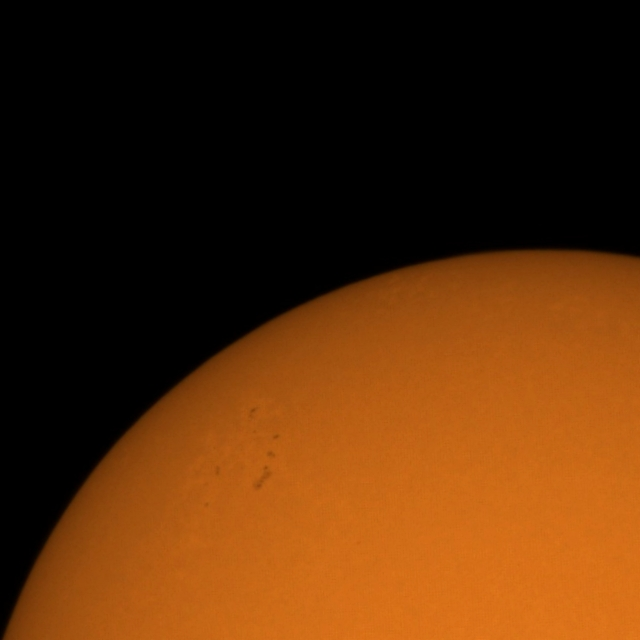sunspot: (252, 461, 274, 492), (247, 406, 258, 421), (214, 464, 222, 478), (266, 450, 276, 459), (272, 433, 281, 441)
